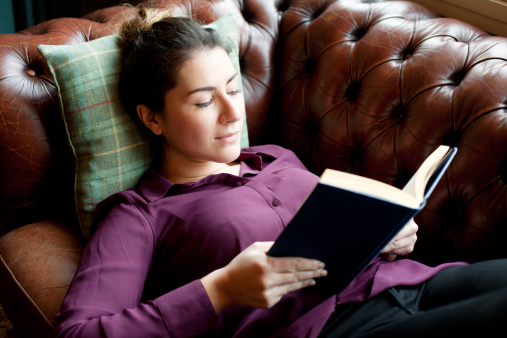deitado: (37, 7, 345, 338)
